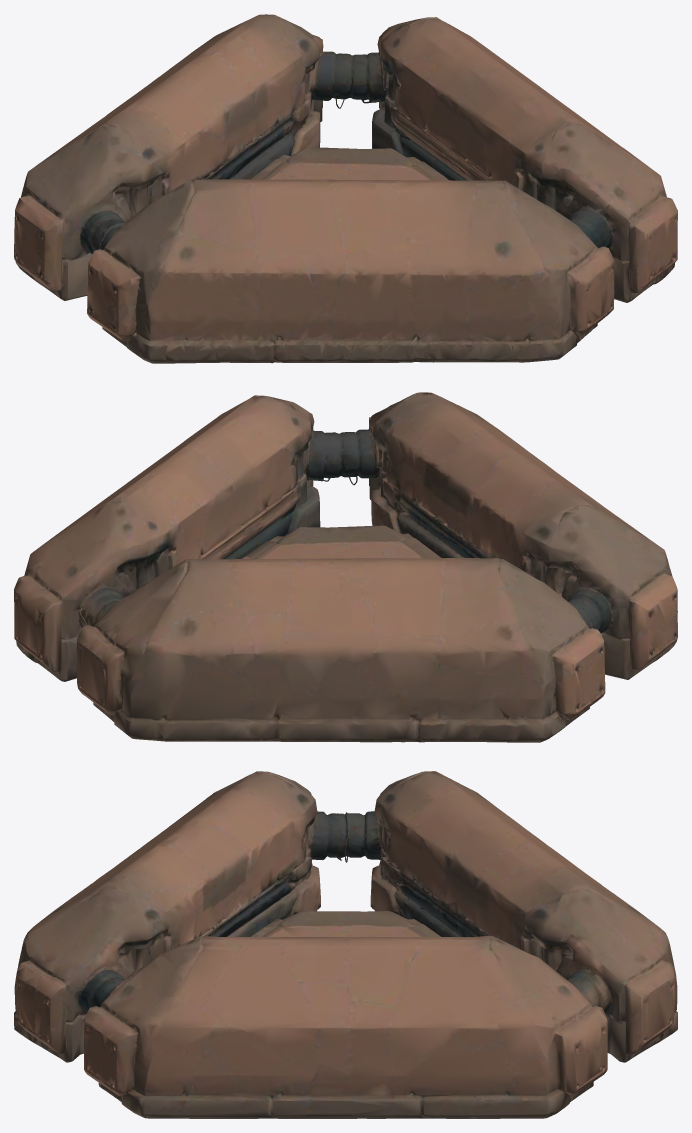
The picture shows the model from 3 angles, top to bottom: view 1: azimuth 30°, elevation 25°; view 2: azimuth 150°, elevation 25°; view 3: azimuth 270°, elevation 25°; orthographic projection.
Visible parts, largest first — view 1: chassis; view 2: chassis; view 3: chassis.
Part boxes in pixels (x1=…): chassis: x1=14, y1=14, x2=677, y2=363; chassis: x1=14, y1=392, x2=677, y2=742; chassis: x1=14, y1=771, x2=677, y2=1118.
Size of the model in its own units: 0.8744 by 0.24 by 0.9898.
1 material, 1 textured.
